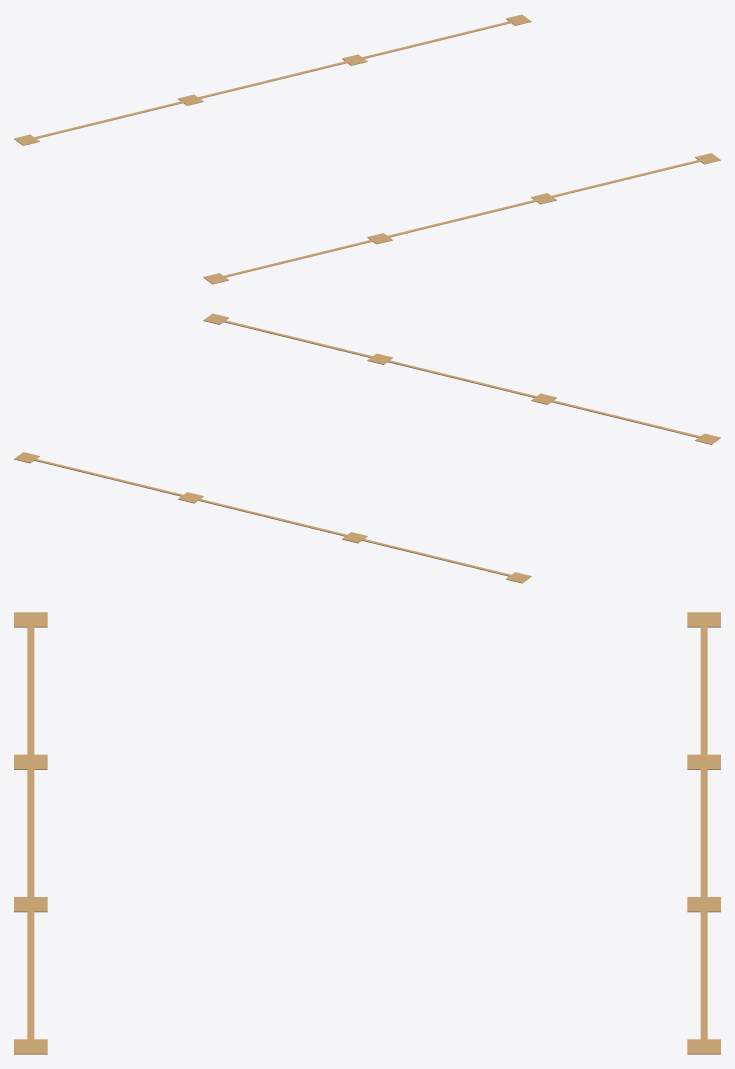
The model's file is board.glb.
3 views of the same model, one above another, from view 1: azimuth 30°, elevation 25°; view 2: azimuth 150°, elevation 25°; view 3: azimuth 270°, elevation 25° (orthographic). The views are drawn at different scales.
Parts seen in each view (by area): view 1: Unified_Net_1_Contour_0, Unified_Net_2_Contour_0; view 2: Unified_Net_1_Contour_0, Unified_Net_2_Contour_0; view 3: Unified_Net_1_Contour_0, Unified_Net_2_Contour_0.
Boxes of the visible parts, x1=… form: Unified_Net_1_Contour_0: x1=14, y1=14, x2=531, y2=145; Unified_Net_2_Contour_0: x1=203, y1=153, x2=720, y2=284; Unified_Net_1_Contour_0: x1=14, y1=452, x2=531, y2=583; Unified_Net_2_Contour_0: x1=203, y1=313, x2=720, y2=444; Unified_Net_1_Contour_0: x1=687, y1=612, x2=720, y2=1054; Unified_Net_2_Contour_0: x1=14, y1=612, x2=47, y2=1054.
Bounding box in the file's own units: 0.031 × 3.5e-05 × 0.021.
